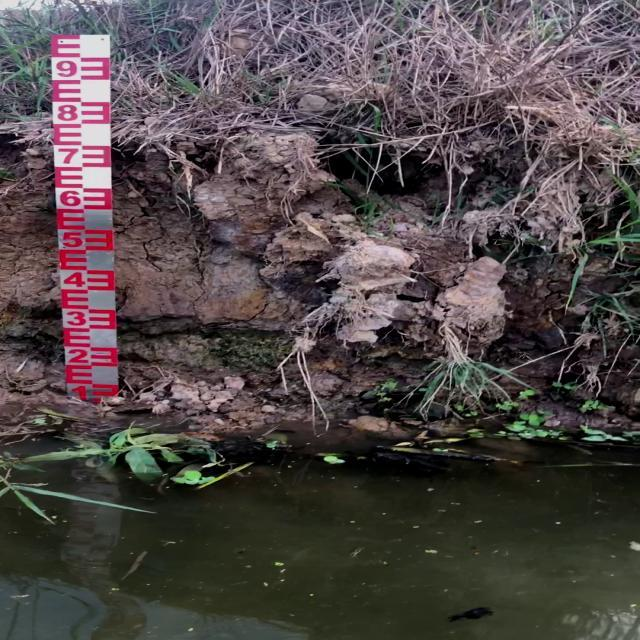ruler: (40, 18, 135, 421)
value: (48, 54, 84, 83), (54, 143, 84, 170), (51, 100, 83, 125), (57, 226, 87, 252), (66, 380, 94, 407), (54, 186, 85, 210), (65, 343, 92, 368), (60, 268, 88, 292), (62, 307, 90, 330)
